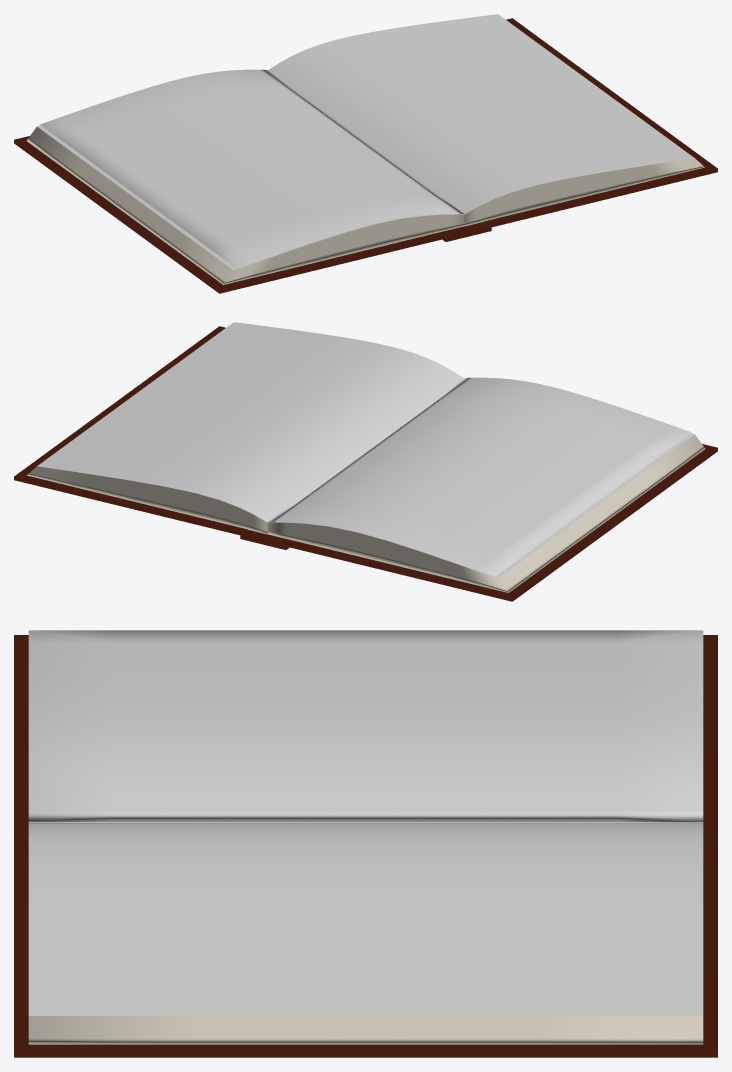
File: crafting-book.fbx
3 views of the same model, one above another, from view 1: azimuth 30°, elevation 25°; view 2: azimuth 150°, elevation 25°; view 3: azimuth 270°, elevation 25° (orthographic). The views are drawn at different scales.
Parts seen in each view (by area): view 1: jobb_oldali_lapok_001, bal_oldali_lapok_002, bal_oldali_lapok, jobb_oldali_lapok, bal_fedlap, jobb_fedlap, gerinc; view 2: jobb_oldali_lapok_001, bal_oldali_lapok_002, bal_oldali_lapok, jobb_oldali_lapok, bal_fedlap, jobb_fedlap, gerinc; view 3: bal_oldali_lapok_002, jobb_oldali_lapok_001, jobb_oldali_lapok, jobb_fedlap, bal_fedlap, bal_oldali_lapok, gerinc.
Boxes of the visible parts, left/top/right/bottom form: jobb_oldali_lapok_001: left=268, top=14, right=691, bottom=213; bal_oldali_lapok_002: left=40, top=69, right=463, bottom=268; bal_oldali_lapok: left=26, top=125, right=464, bottom=284; jobb_oldali_lapok: left=464, top=14, right=704, bottom=226; bal_fedlap: left=14, top=136, right=449, bottom=293; jobb_fedlap: left=481, top=18, right=717, bottom=227; gerinc: left=442, top=222, right=491, bottom=241; jobb_oldali_lapok_001: left=40, top=322, right=463, bottom=521; bal_oldali_lapok_002: left=268, top=377, right=691, bottom=576; bal_oldali_lapok: left=267, top=433, right=705, bottom=592; jobb_oldali_lapok: left=27, top=322, right=267, bottom=534; bal_fedlap: left=282, top=444, right=717, bottom=601; jobb_fedlap: left=14, top=326, right=250, bottom=535; gerinc: left=240, top=530, right=289, bottom=549; bal_oldali_lapok_002: left=28, top=630, right=703, bottom=822; jobb_oldali_lapok_001: left=28, top=823, right=703, bottom=1013; jobb_oldali_lapok: left=28, top=1013, right=703, bottom=1044; jobb_fedlap: left=14, top=859, right=717, bottom=1057; bal_fedlap: left=14, top=635, right=717, bottom=833; bal_oldali_lapok: left=28, top=822, right=703, bottom=823; gerinc: left=14, top=833, right=717, bottom=859.
Bounding box in the file's own units: 0.434 × 0.0273 × 0.31.
